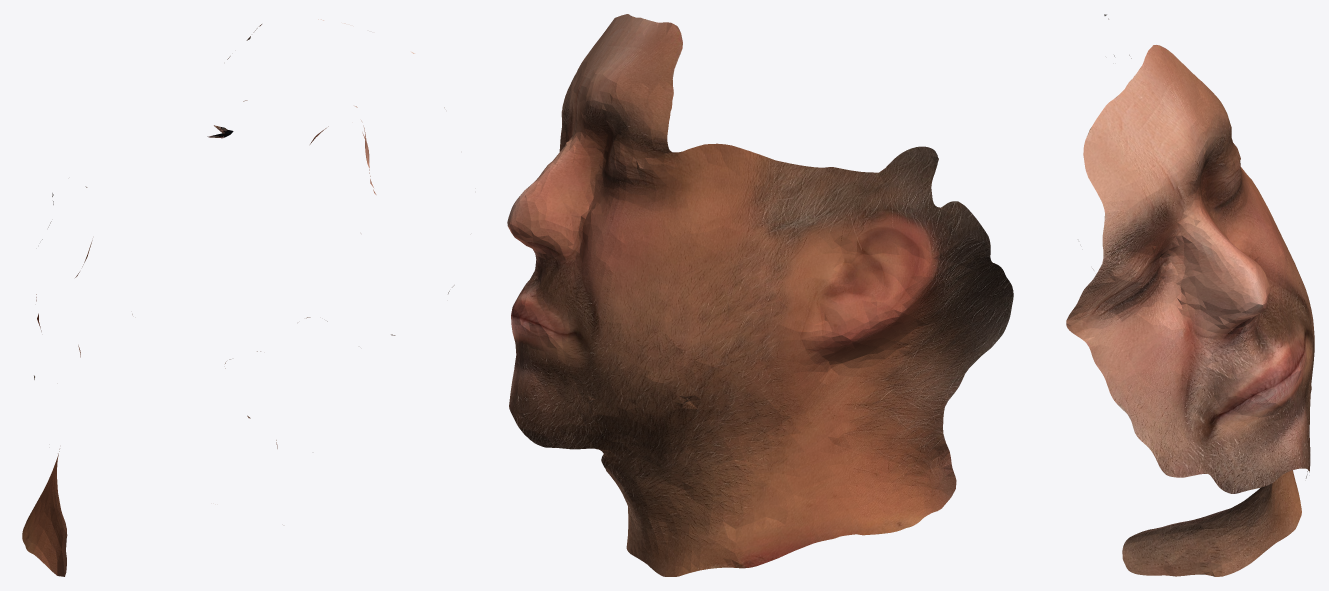
Rendered from BUSTO_4.glb.
3 renders of one model, left to right at view 1: azimuth 30°, elevation 25°; view 2: azimuth 150°, elevation 25°; view 3: azimuth 270°, elevation 25°, orthographic. The views are drawn at different scales.
Parts seen in each view (by area): view 1: Mesh_0.012; view 2: Mesh_0.012; view 3: Mesh_0.012.
Part boxes in pixels (box(x1,y1,x2,y2)): Mesh_0.012: box(22, 19, 454, 576); Mesh_0.012: box(507, 14, 1013, 576); Mesh_0.012: box(1066, 14, 1314, 576).
Bounding box in the file's own units: 3.1 × 3.44 × 1.62.
1 material, 1 textured.
